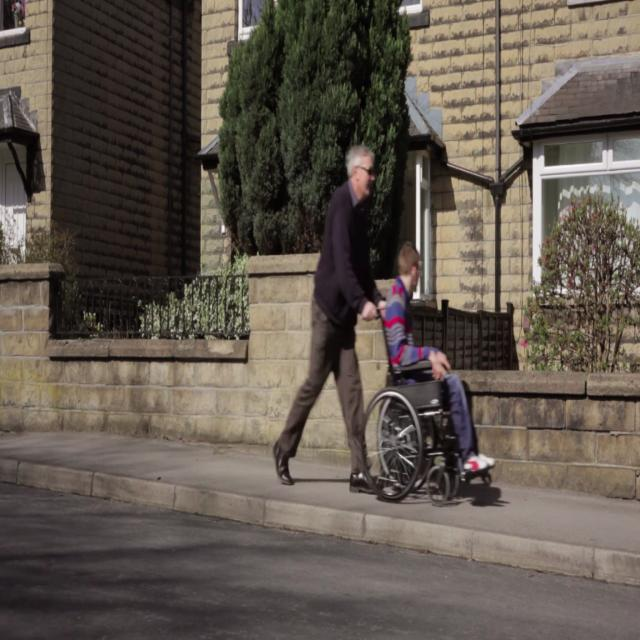wheelchairs: (341, 295, 490, 520)
